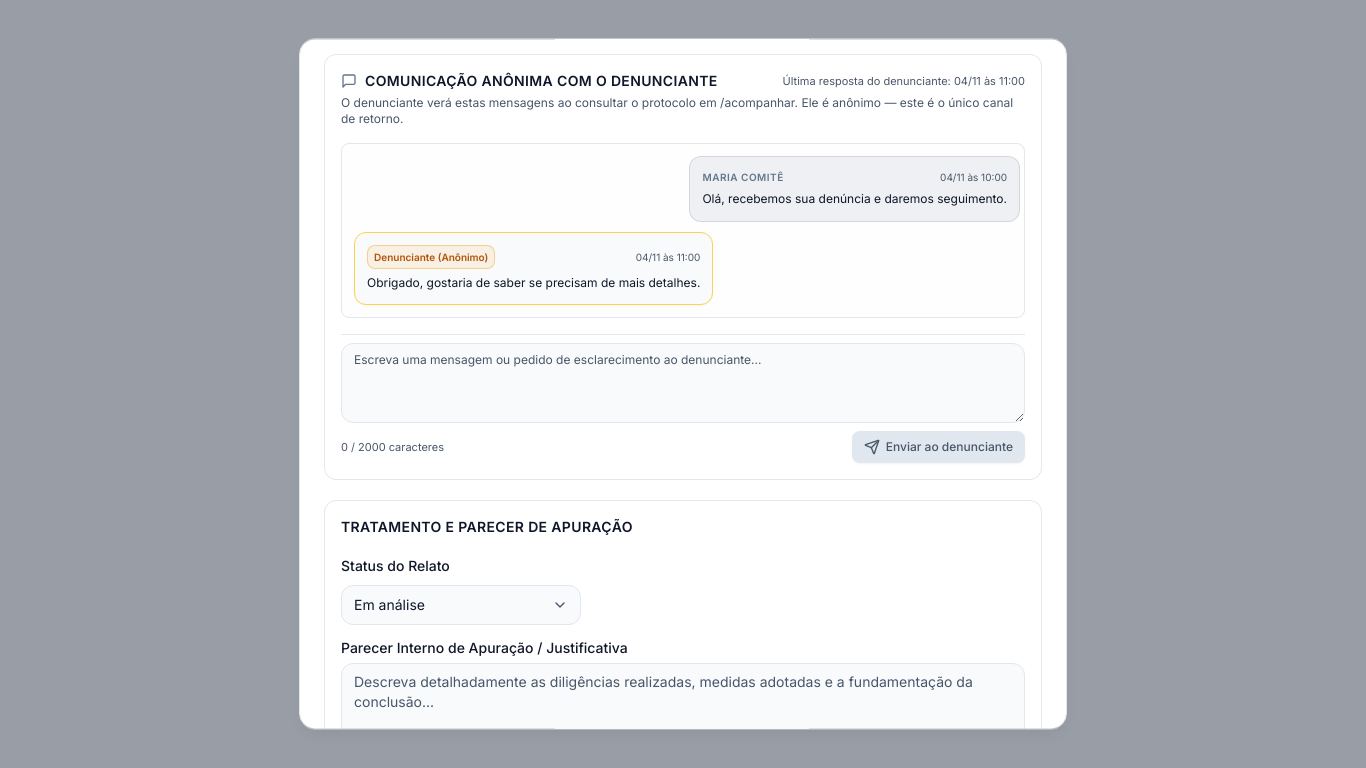
Test: DenunciaDetailDialog — Ordem das seções e Comunicação com Denunciante › habilita envio de mensagens quando a denúncia é assumida pelo usuário logado
The image size is (1366, 768).
(page scrolled)
Replace the text in the text box with placeholder "Escreva uma mensagem ou pedido de esclarecimento ao denunciante..." with "Mensagem de esclarecimento": (683, 384) [341,344,1025,424]
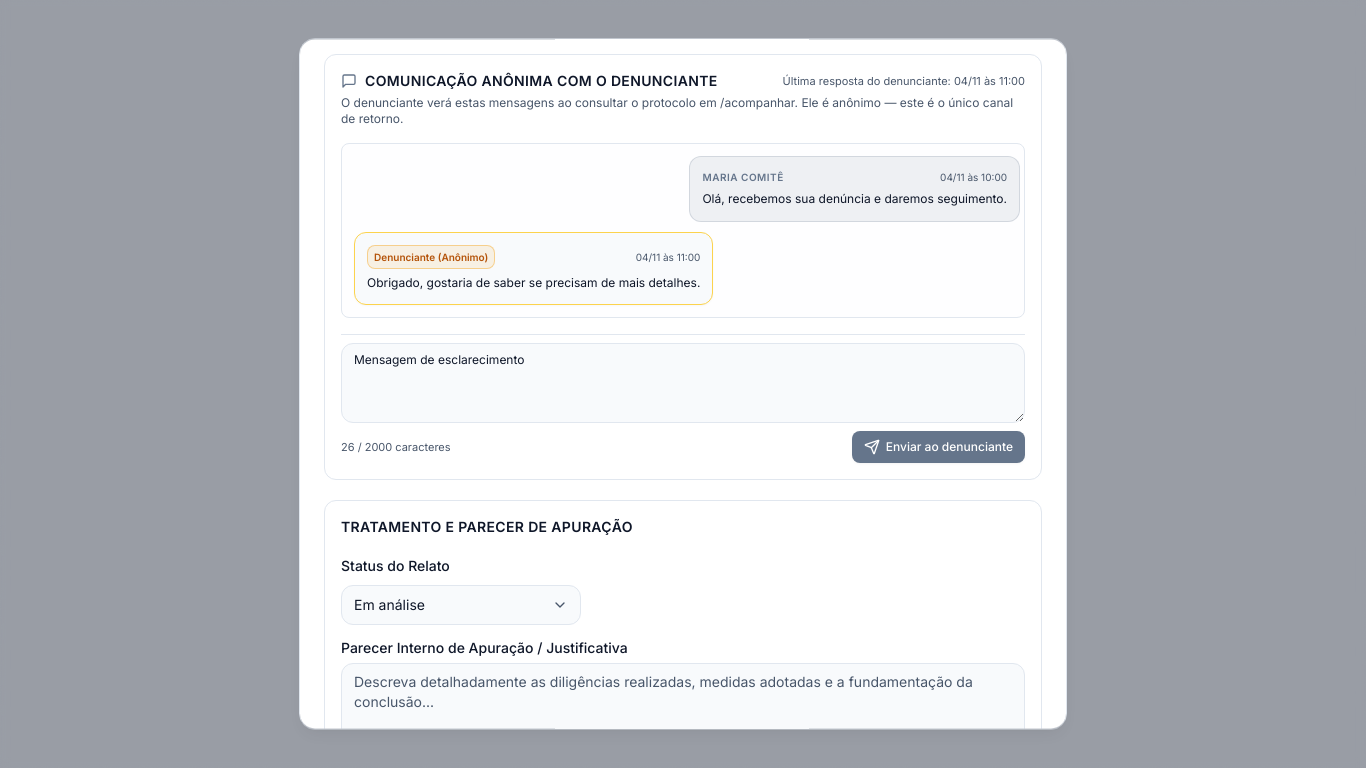
expect the text "26 / 2000 caracteres" is shown: met, box [341,439,451,456]
expect the button "Enviar ao denunciante" is enabled: met, box [852,432,1025,464]
